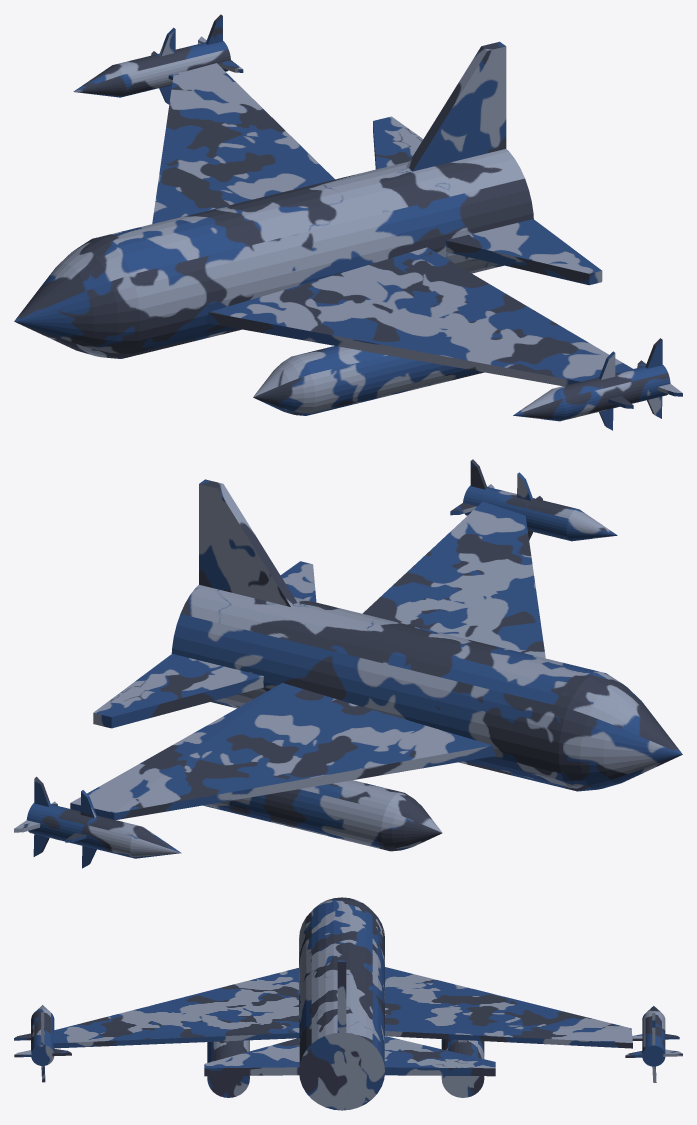
File: fighter.obj
3 views of the same model, one above another, from view 1: azimuth 30°, elevation 25°; view 2: azimuth 150°, elevation 25°; view 3: azimuth 270°, elevation 25° (orthographic). The views are drawn at different scales.
Parts seen in each view (by area): view 1: 円柱_円柱.001; view 2: 円柱_円柱.001; view 3: 円柱_円柱.001.
Boxes of the visible parts, x1,y1,x2,y2 form: 円柱_円柱.001: (14, 14, 682, 430); 円柱_円柱.001: (14, 459, 682, 868); 円柱_円柱.001: (14, 897, 682, 1110).
Size of the model in its own units: 3.43 by 1.61 by 5.88.
Materials: 1 (1 with a texture image).
